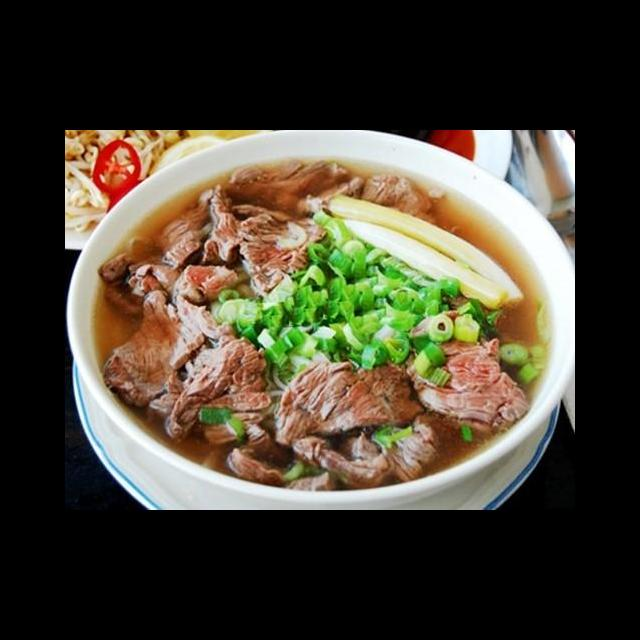thit bo: (401, 306, 537, 445), (271, 351, 431, 448), (148, 329, 273, 444), (98, 287, 209, 414), (289, 410, 445, 496), (214, 152, 367, 227), (195, 386, 291, 493), (232, 209, 333, 302), (127, 261, 243, 314), (151, 194, 218, 278), (357, 167, 440, 232), (96, 244, 167, 319), (194, 183, 251, 276)
